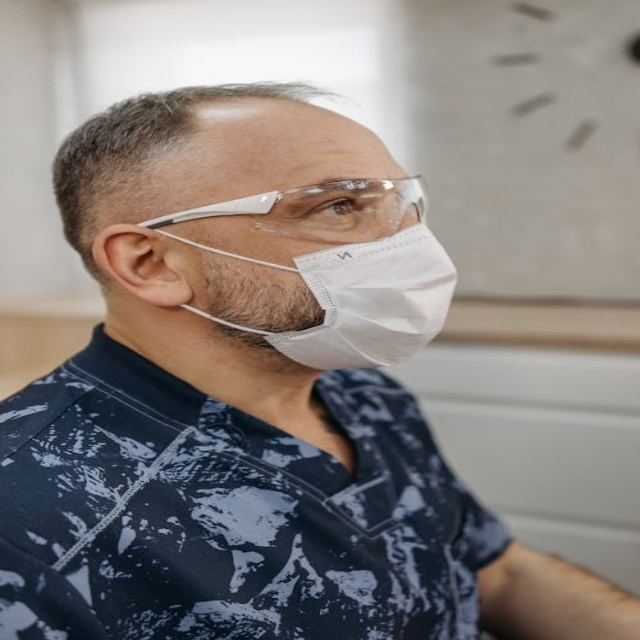Gafas: (134, 175, 432, 241)
Mascara: (134, 184, 458, 369)
